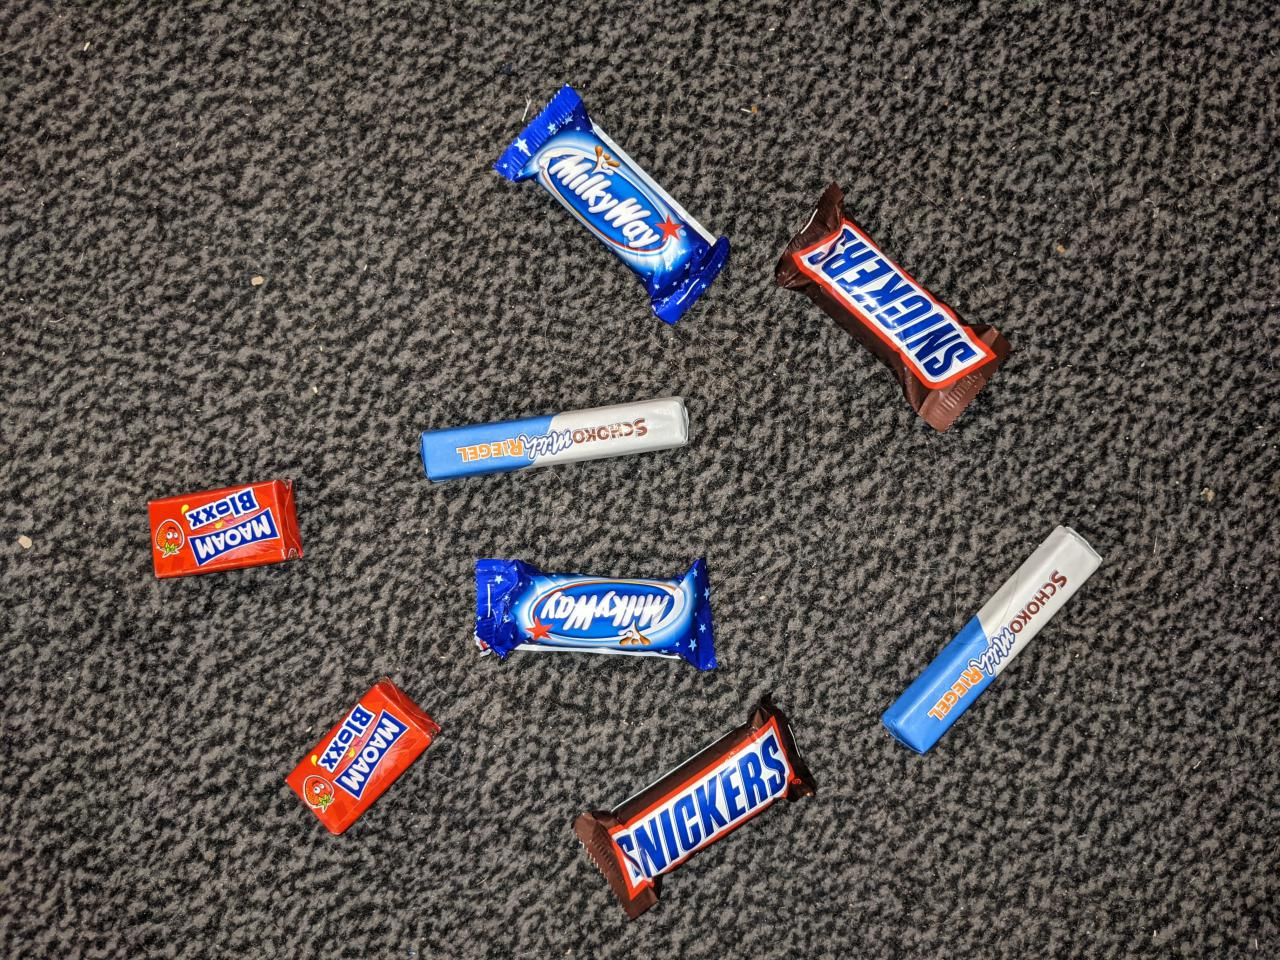MAOAM: (280, 673, 447, 841), (141, 475, 308, 586)
MilkyWay: (489, 79, 737, 331), (468, 552, 722, 677)
Schokoriegel: (877, 520, 1110, 760), (416, 391, 697, 488)
Snickers: (767, 179, 1018, 442), (566, 688, 824, 927)
